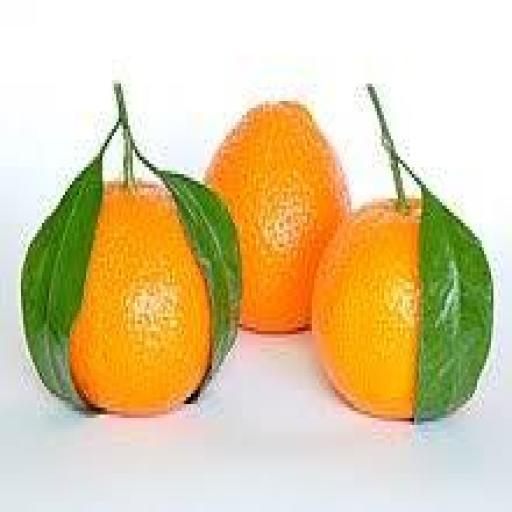orange: (208, 102, 349, 330), (74, 184, 212, 413), (312, 203, 421, 417)
